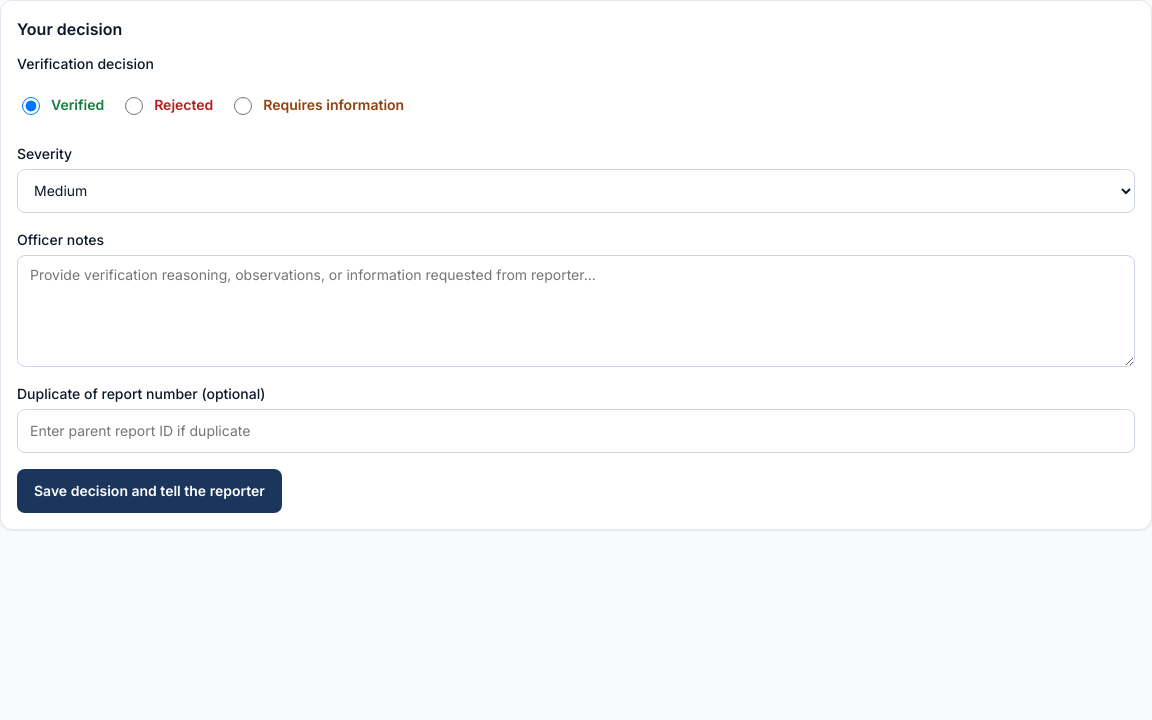
it: DecisionForm (step 6) › should refuse to verify when the minimum evidence rule is not met
Click the button "Save decision and tell the reporter" at (149, 491), box [17,469,282,513]
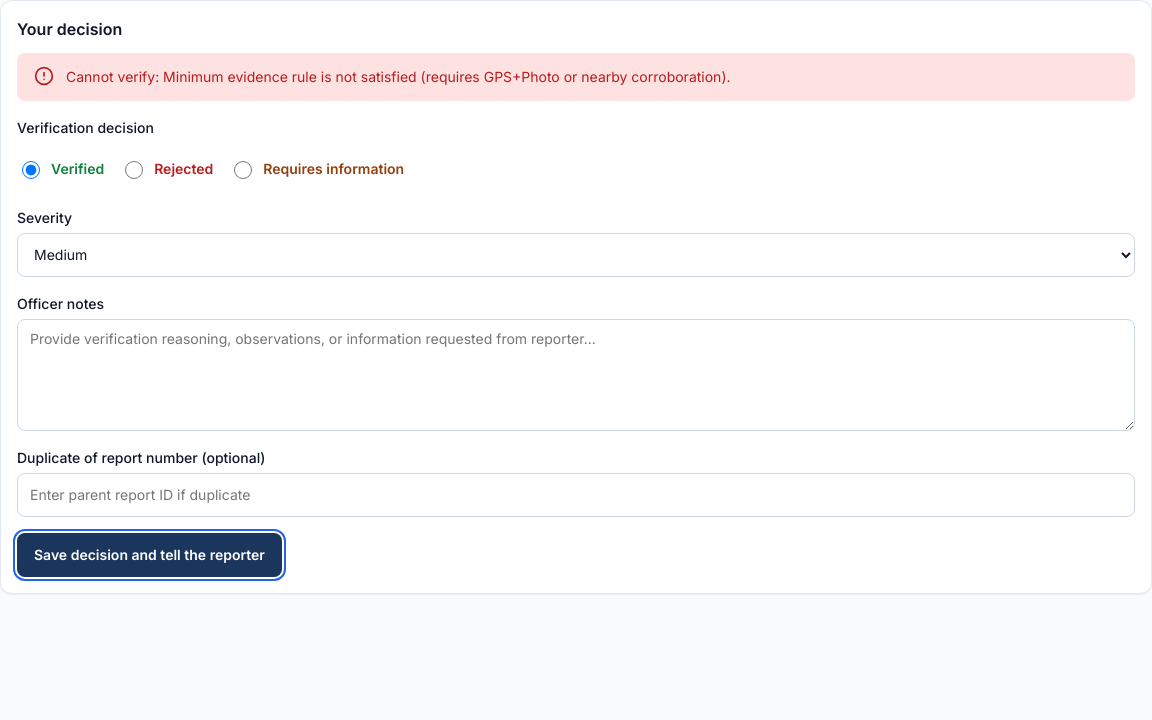
Result: the message shows "Minimum evidence rule is not satisfied" at [66,68,730,85]
